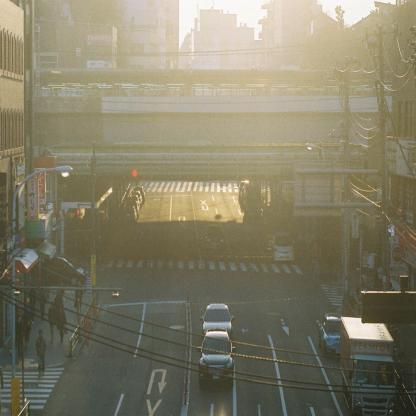Car: (318, 313, 346, 357), (199, 302, 235, 334), (272, 235, 292, 260), (205, 227, 224, 250)
